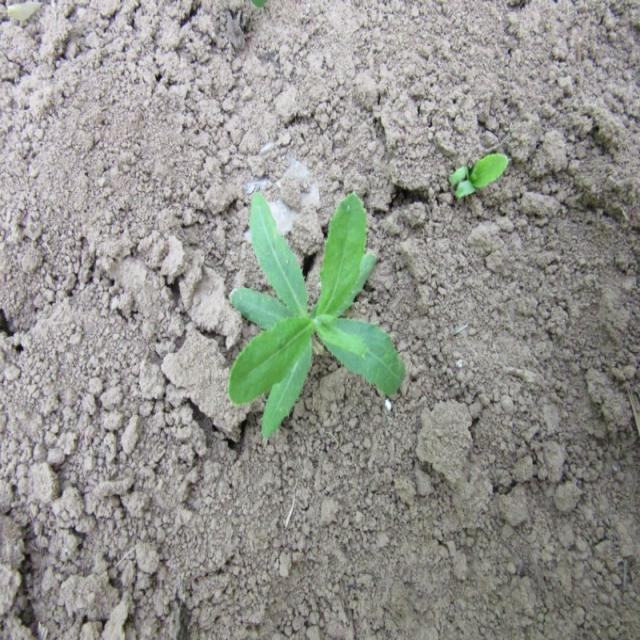field_thistle: (197, 182, 424, 422)
